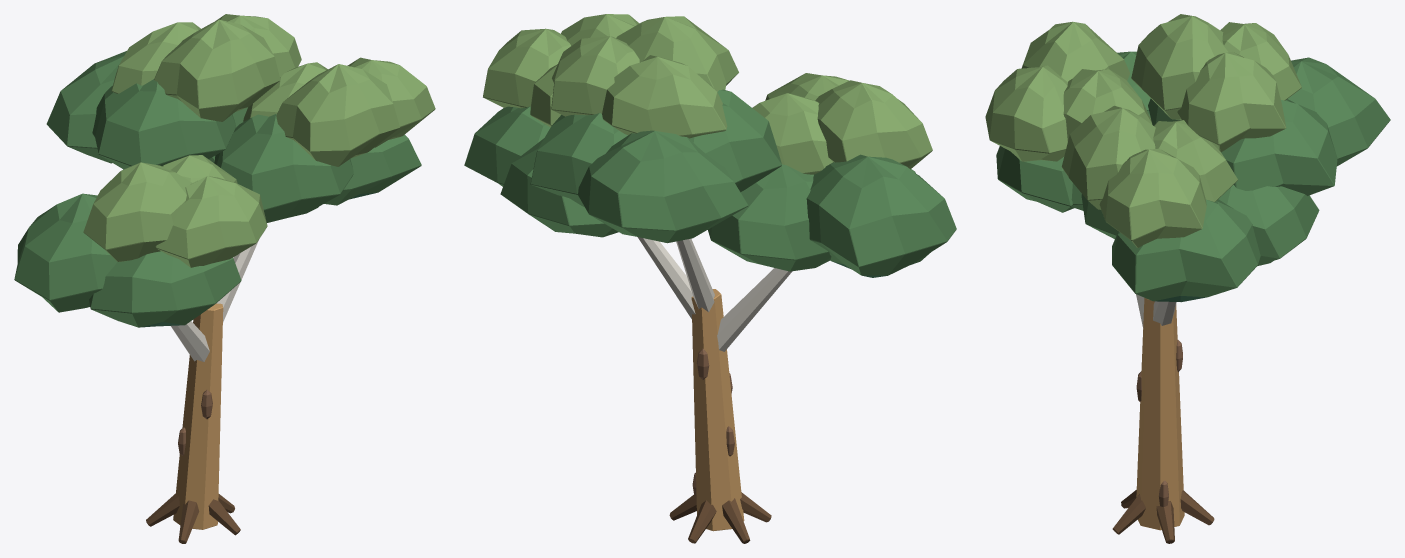
File: b08_sycamore.glb
The picture shows the model from 3 angles, left to right: view 1: azimuth 30°, elevation 25°; view 2: azimuth 150°, elevation 25°; view 3: azimuth 270°, elevation 25°; orthographic projection. The views are drawn at different scales.
Parts seen in each view (by area): view 1: b08_sycamore; view 2: b08_sycamore; view 3: b08_sycamore.
Boxes of the visible parts, <box> form: b08_sycamore: <box>14,14,435,543</box>; b08_sycamore: <box>464,14,956,543</box>; b08_sycamore: <box>985,14,1390,543</box>.
Bounding box in the file's own units: 6.34 × 6.92 × 4.82.
